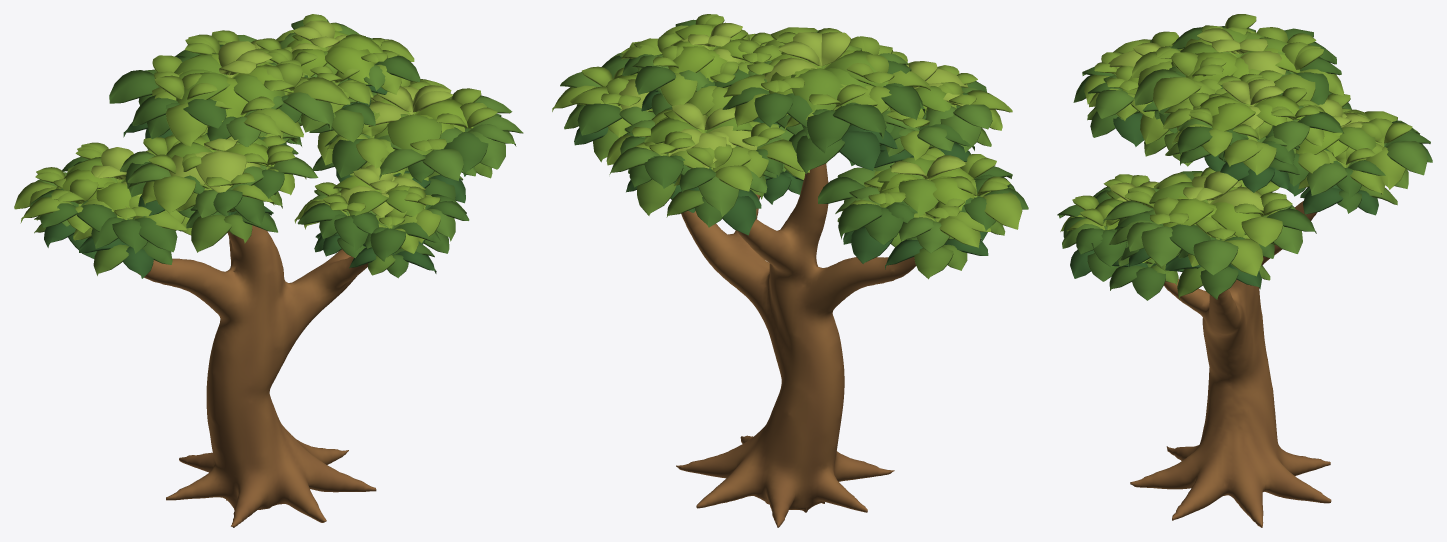
File: oak.glb
3 views of the same model, side by side, from view 1: azimuth 30°, elevation 25°; view 2: azimuth 150°, elevation 25°; view 3: azimuth 270°, elevation 25° (orthographic). The views are drawn at different scales.
Visible parts, largest first — view 1: Oak · layered leafy canopy, Oak · rooted asymmetric fork; view 2: Oak · layered leafy canopy, Oak · rooted asymmetric fork; view 3: Oak · layered leafy canopy, Oak · rooted asymmetric fork.
Part boxes in pixels (box(x1,y1,x2,y2)): Oak · layered leafy canopy: box(14, 14, 523, 278); Oak · rooted asymmetric fork: box(138, 225, 376, 527); Oak · layered leafy canopy: box(552, 14, 1028, 279); Oak · rooted asymmetric fork: box(676, 163, 916, 527); Oak · layered leafy canopy: box(1057, 14, 1432, 300); Oak · rooted asymmetric fork: box(1130, 201, 1331, 527).
Bounding box in the file's own units: 5.52 × 5.1 × 3.87.
